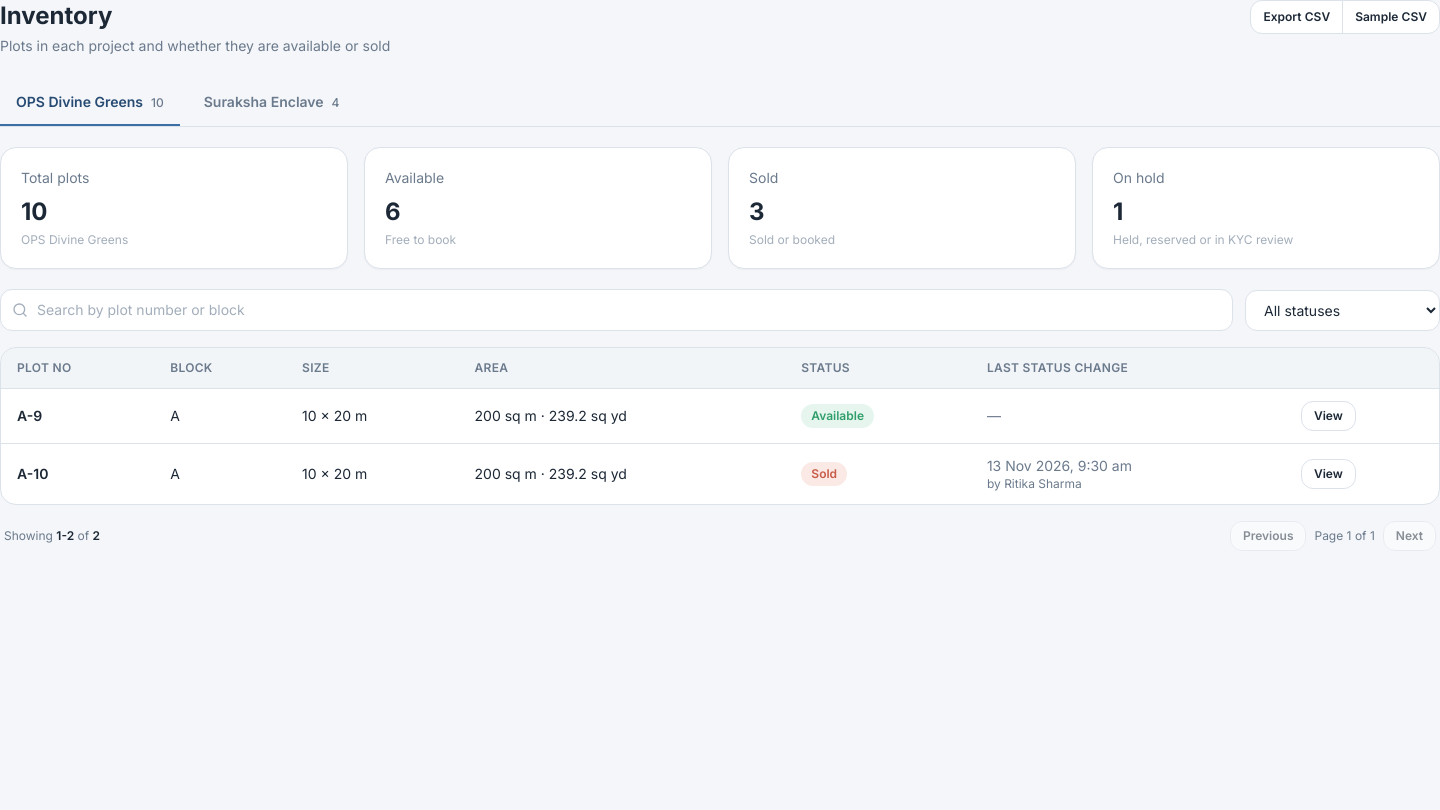
InventoryPage › downloads the server's file with the chosen fields for the selected project and filters
Later steps or results of the test are not shown.
Expected: the text "A-9" is shown, [1,388,154,444]
Select "Sold" in the dropdown named "Status" at (1342, 310), box [1245,290,1439,330]
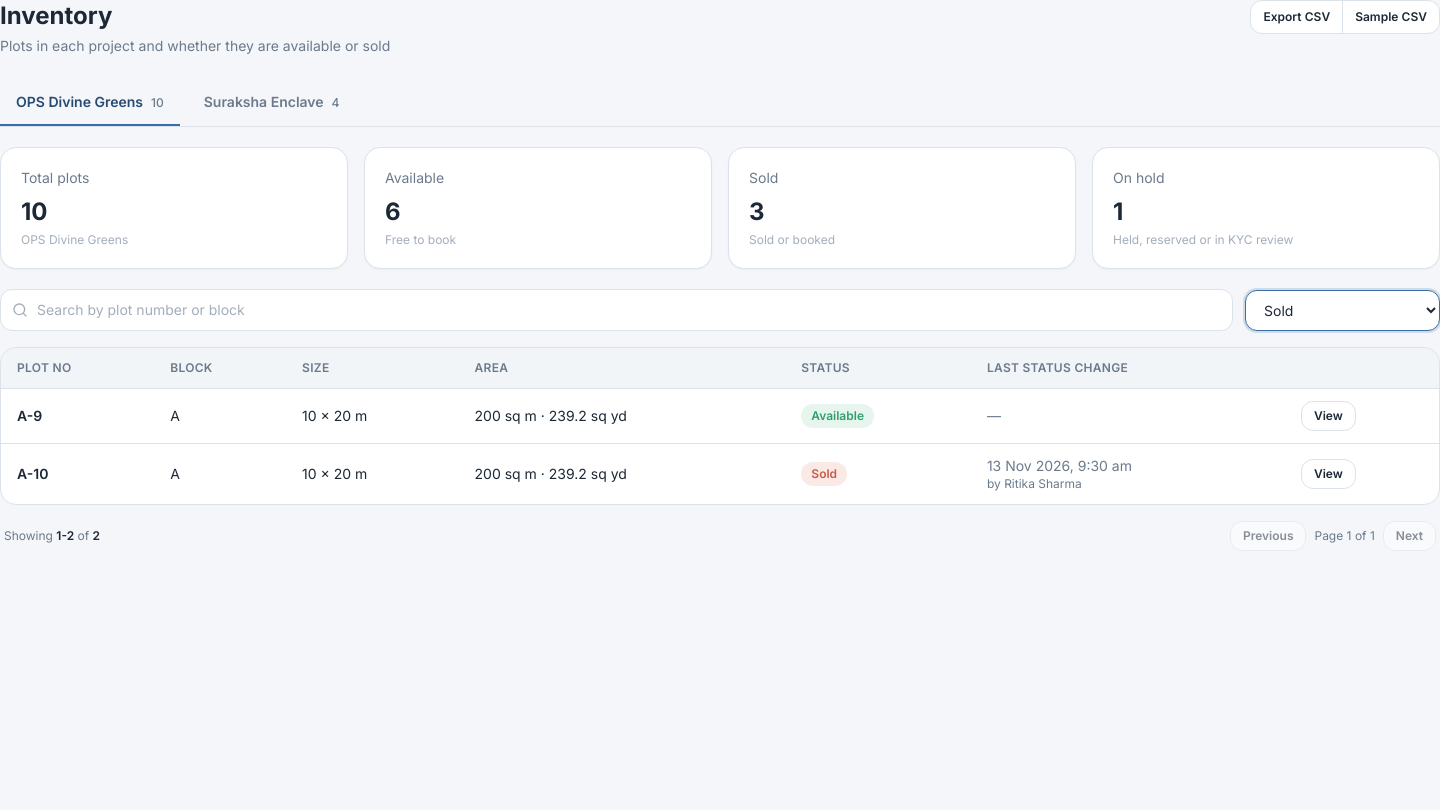
Click the button "Export CSV" at (1297, 17), box [1252,1,1343,33]
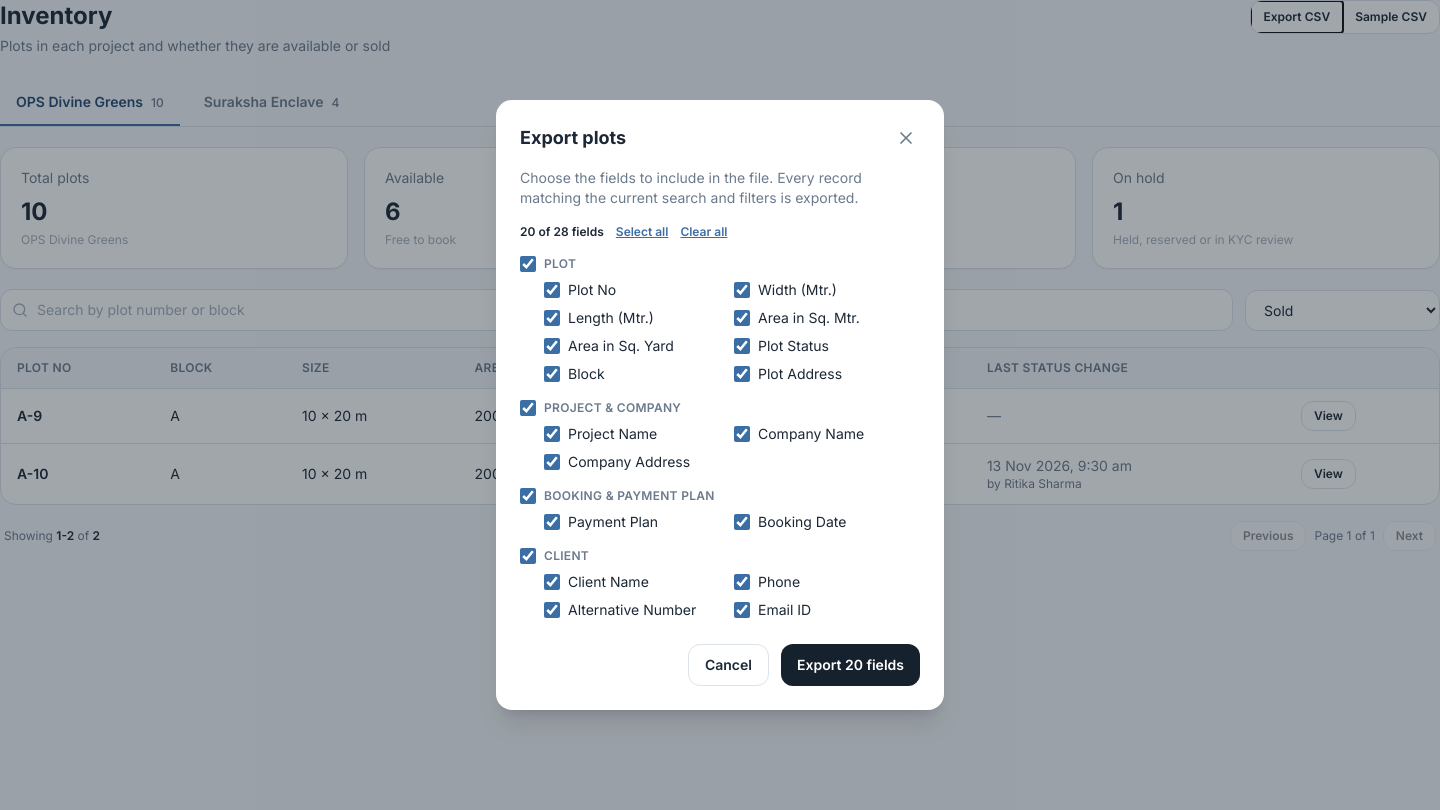
Result: the heading "Export plots" is shown at [520,124,626,152]
